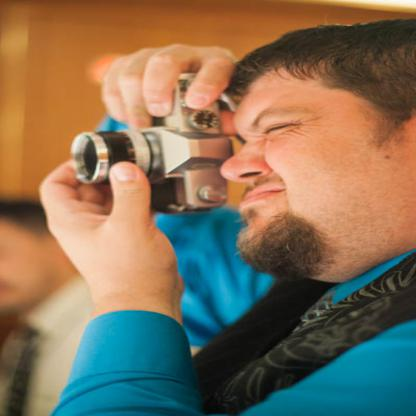Camera: (79, 87, 246, 200)
